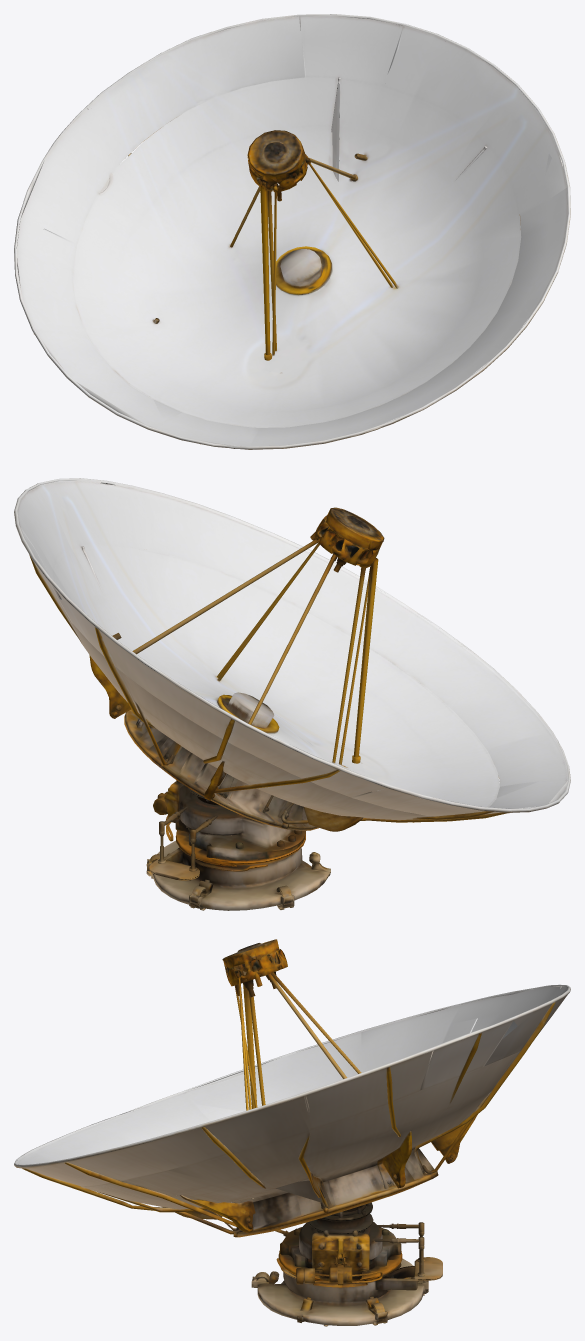
The model's file is sat3_6.fbx.
3 renders of one model, top to bottom at view 1: azimuth 30°, elevation 25°; view 2: azimuth 150°, elevation 25°; view 3: azimuth 270°, elevation 25°, orthographic. The views are drawn at different scales.
Parts seen in each view (by area): view 1: tripo_node_1889ced6; view 2: tripo_node_1889ced6; view 3: tripo_node_1889ced6.
Boxes of the visible parts, x1,y1,x2,y2 form: tripo_node_1889ced6: [14, 14, 570, 449]; tripo_node_1889ced6: [14, 478, 570, 910]; tripo_node_1889ced6: [14, 939, 570, 1326].
Size of the model in its own units: 0.9966 by 0.6479 by 0.9995.
